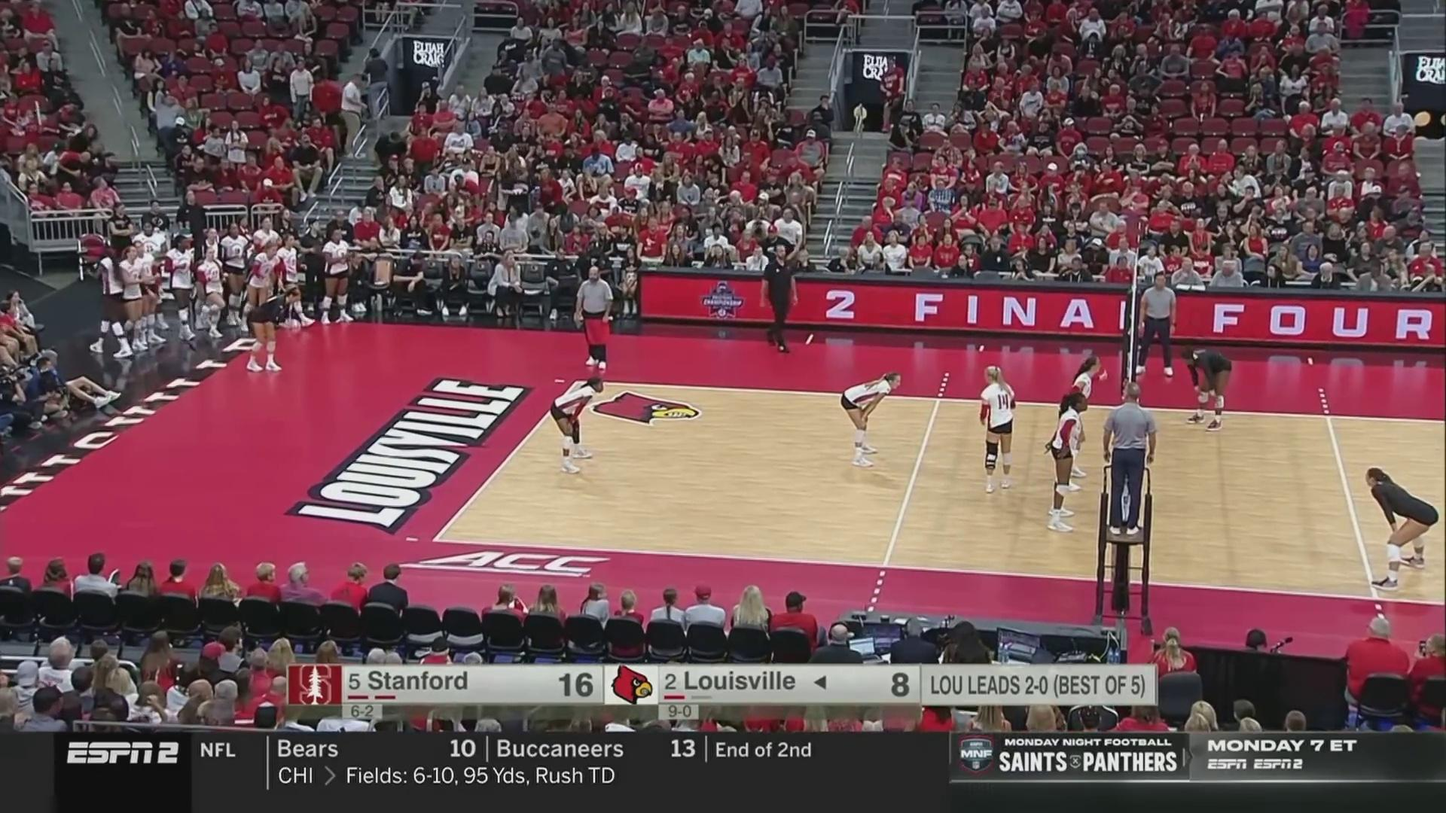player: (1366, 465, 1438, 587), (1056, 355, 1102, 494), (1046, 390, 1089, 528), (842, 374, 902, 466), (549, 378, 608, 470), (1173, 345, 1235, 432), (246, 285, 301, 373), (979, 372, 1016, 495)
refree: (1100, 390, 1154, 534), (1135, 271, 1179, 377), (577, 262, 613, 369)
